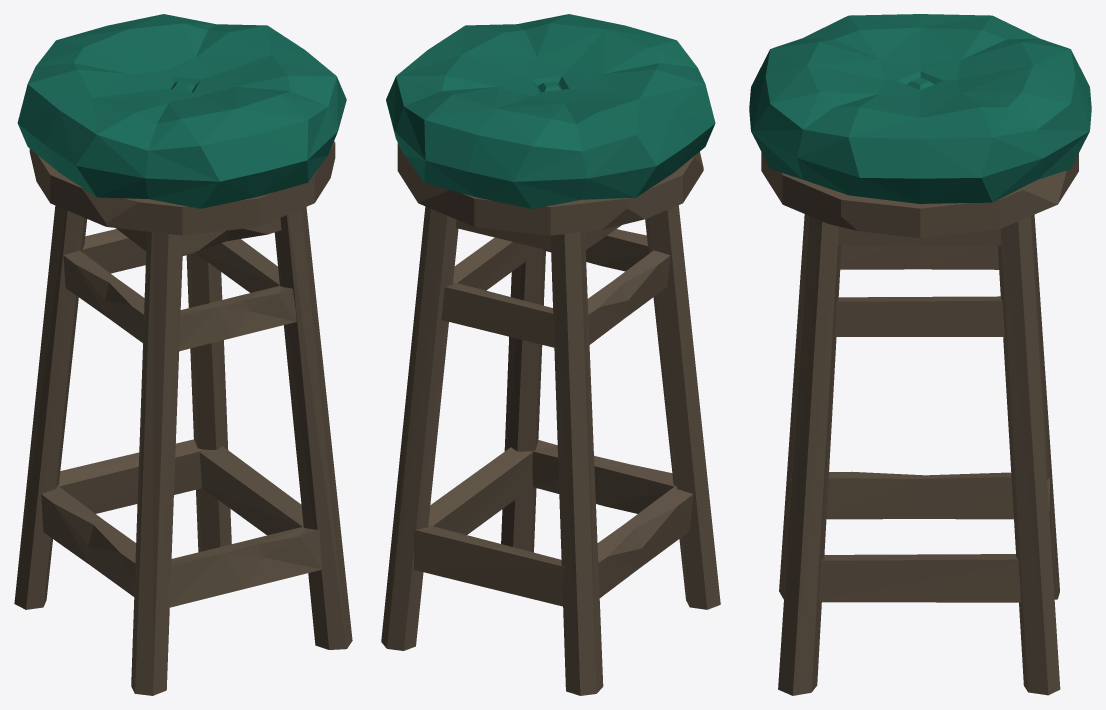
The model's file is SFHW_Stool_004.fbx.
3 renders of one model, left to right at view 1: azimuth 30°, elevation 25°; view 2: azimuth 150°, elevation 25°; view 3: azimuth 270°, elevation 25°, orthographic. The views are drawn at different scales.
Visible parts, largest first — view 1: SFHW_Stool_004; view 2: SFHW_Stool_004; view 3: SFHW_Stool_004.
Part boxes in pixels (x1,y1,x2,y2): SFHW_Stool_004: [14, 14, 352, 695]; SFHW_Stool_004: [381, 14, 720, 695]; SFHW_Stool_004: [749, 14, 1091, 695].
Size of the model in its own units: 38.06 by 73.36 by 39.57.
